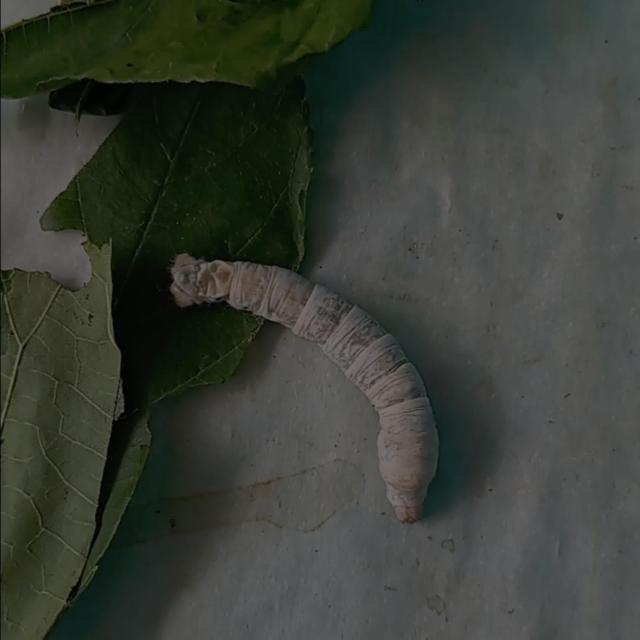Grasserie: (152, 233, 480, 541)
